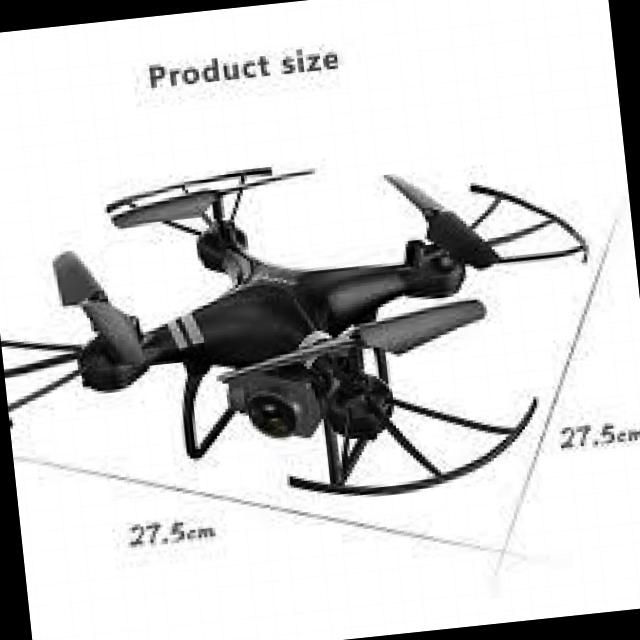drone: (0, 116, 626, 543)
